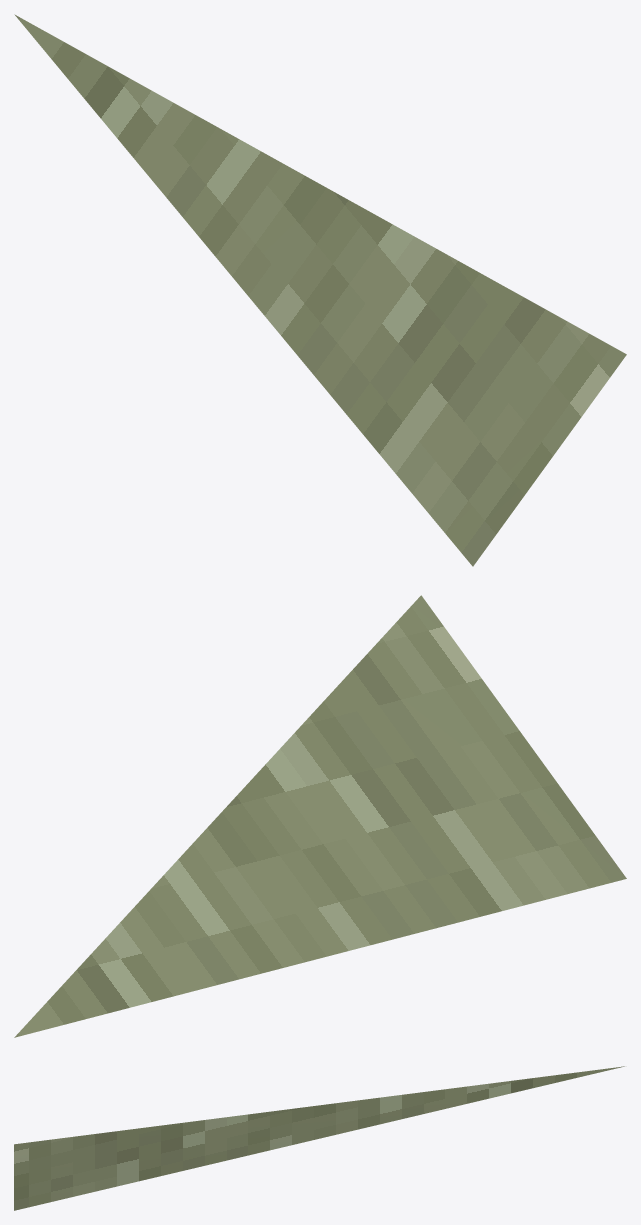
The model's file is kd_stage_135ded_4_123_exterior_piece_9.glb.
The picture shows the model from 3 angles, top to bottom: view 1: azimuth 30°, elevation 25°; view 2: azimuth 150°, elevation 25°; view 3: azimuth 270°, elevation 25°; orthographic projection. The views are drawn at different scales.
Visible parts, largest first — view 1: kd_stage_135ded_4_123_exterior_piece_9; view 2: kd_stage_135ded_4_123_exterior_piece_9; view 3: kd_stage_135ded_4_123_exterior_piece_9.
Boxes of the visible parts, bbox=[...] form: kd_stage_135ded_4_123_exterior_piece_9: bbox=[14, 14, 626, 566]; kd_stage_135ded_4_123_exterior_piece_9: bbox=[14, 595, 626, 1037]; kd_stage_135ded_4_123_exterior_piece_9: bbox=[14, 1066, 624, 1210].
Size of the model in its own units: 0.0248 by 0.0334 by 0.128.
Materials: 1 (1 with a texture image).
